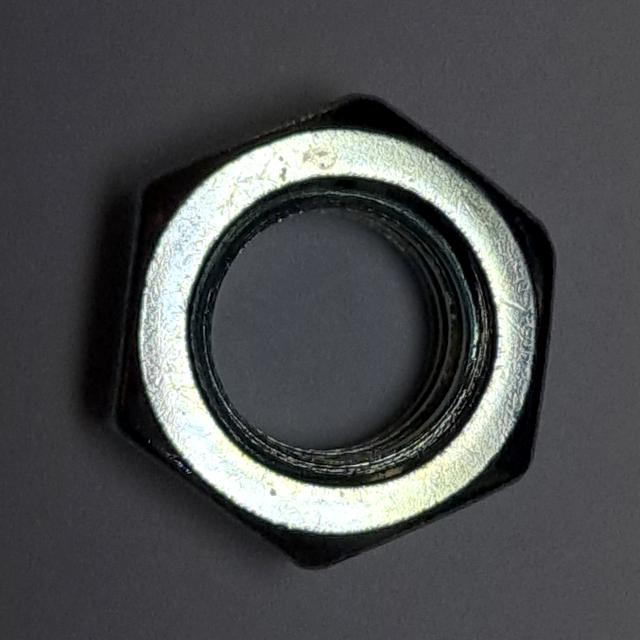Excellent: (85, 64, 567, 586)
